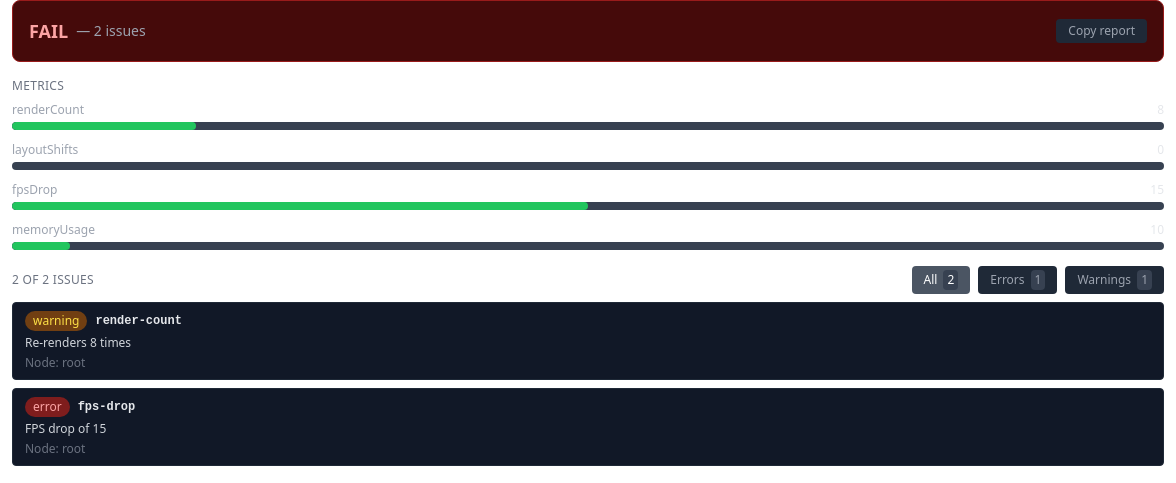
Test: D08: ResultDetailView with filter › hides error issues when Warnings filter is active
Step 1. Click the button "Warnings 1" → coordinates (1115, 280), box [1066,266,1164,294]
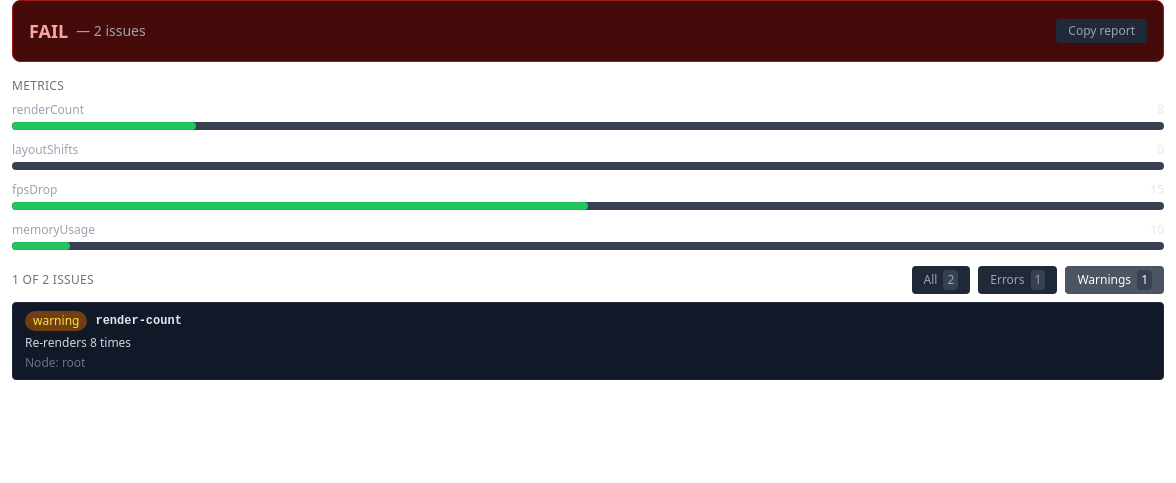
Expected: the text "render-count" is shown, [95,313,182,329]
Expected: the text "fps-drop" is gone
